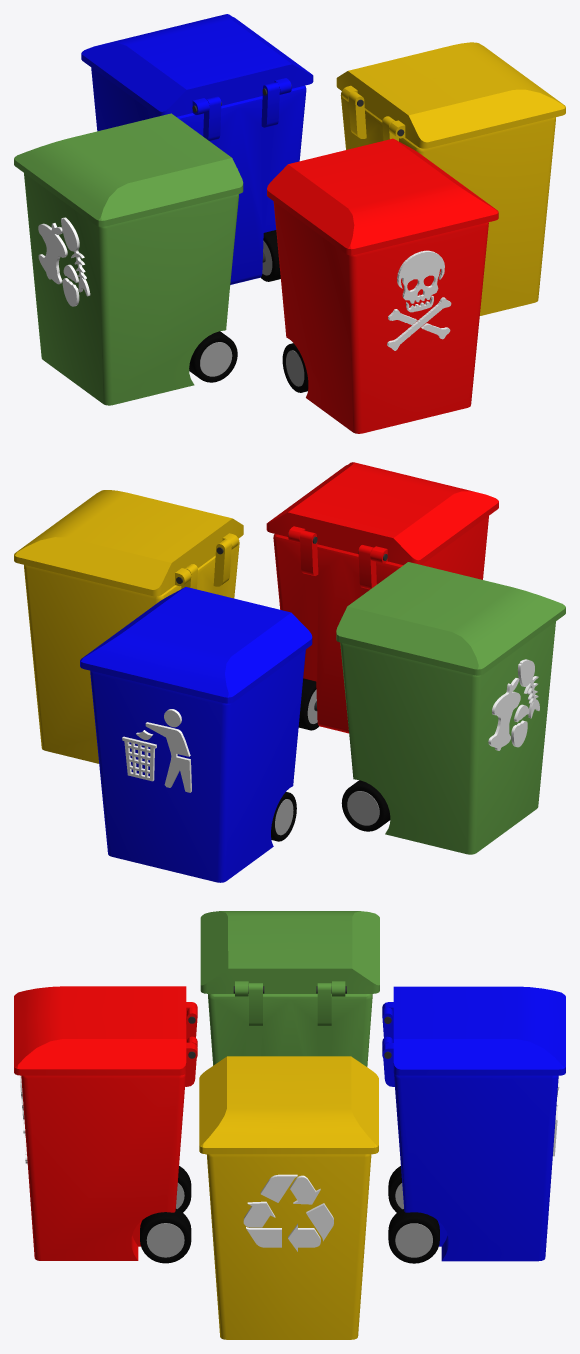
File: Quad bins.glb
3 views of the same model, one above another, from view 1: azimuth 30°, elevation 25°; view 2: azimuth 150°, elevation 25°; view 3: azimuth 270°, elevation 25° (orthographic). The views are drawn at different scales.
Visible parts, largest first — view 1: Cube.006, Cube.004, Cube.007, Cube.005, Cube, Cube.001, Cube.003, Cube.002, Plane, Plane.001, Cylinder.008, Cylinder.009 (+1 smaller); view 2: Cube.002, Cube.004, Cube.003, Cube.005, Cube, Cube.001, Cube.007, Cube.006, Circle, Plane.001, Cylinder.008, Cylinder.009 (+1 smaller); view 3: Cube.002, Cube.006, Cube, Cube.001, Cube.007, Cube.003, Cube.005, Cube.004, Plane.003, Cylinder.004, Cylinder.012, Cylinder.005 (+1 smaller).
Part boxes in pixels (box(x1,y1,x2,y2)): Cube.006: box(273, 201, 488, 433); Cube.004: box(24, 173, 238, 405); Cube.007: box(267, 138, 498, 255); Cube.005: box(14, 113, 243, 226); Cube: box(340, 91, 555, 315); Cube.001: box(336, 42, 565, 148); Cube.003: box(81, 14, 313, 116); Cube.002: box(91, 67, 306, 284); Plane: box(387, 250, 451, 350); Plane.001: box(38, 217, 90, 306); Cylinder.008: box(189, 331, 237, 382); Cylinder.009: box(200, 342, 232, 376); Cube.002: box(90, 649, 305, 882); Cube.004: box(340, 621, 555, 854); Cube.003: box(80, 587, 312, 703); Cube.005: box(336, 562, 565, 675); Cube: box(24, 539, 239, 763); Cube.001: box(14, 490, 243, 596); Cube.007: box(266, 462, 498, 565); Cube.006: box(273, 516, 488, 733); Circle: box(122, 709, 191, 792); Plane.001: box(488, 659, 539, 750); Cylinder.008: box(341, 780, 390, 831); Cylinder.009: box(347, 791, 379, 825); Cube.002: box(382, 1007, 558, 1261); Cube.006: box(21, 1007, 197, 1260); Cube: box(206, 1154, 371, 1339); Cube.001: box(199, 1056, 378, 1154); Cube.007: box(14, 986, 197, 1075); Cube.003: box(382, 986, 565, 1075); Cube.005: box(200, 911, 379, 996); Cube.004: box(208, 983, 372, 1066); Plane.003: box(243, 1174, 333, 1251); Cylinder.004: box(388, 1166, 439, 1263); Cylinder.012: box(140, 1166, 191, 1263); Cylinder.005: box(395, 1183, 432, 1257).
Bounding box in the file's own units: 8 × 3.58 × 8.
